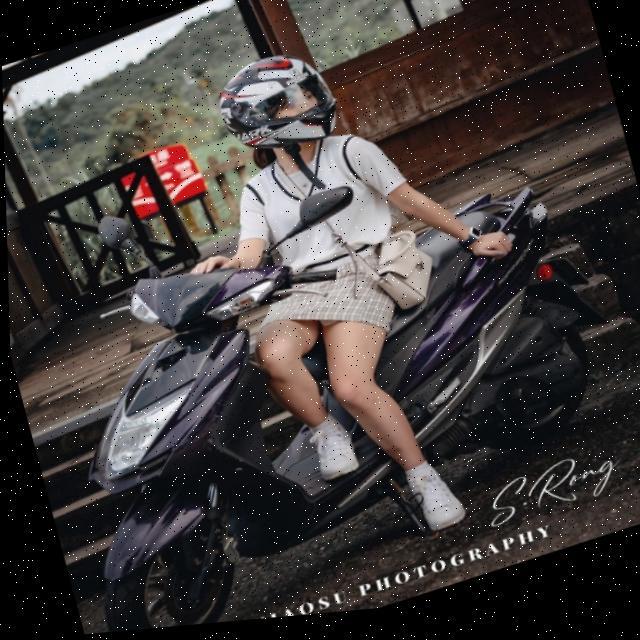illegal_helmet: (201, 36, 361, 225)
